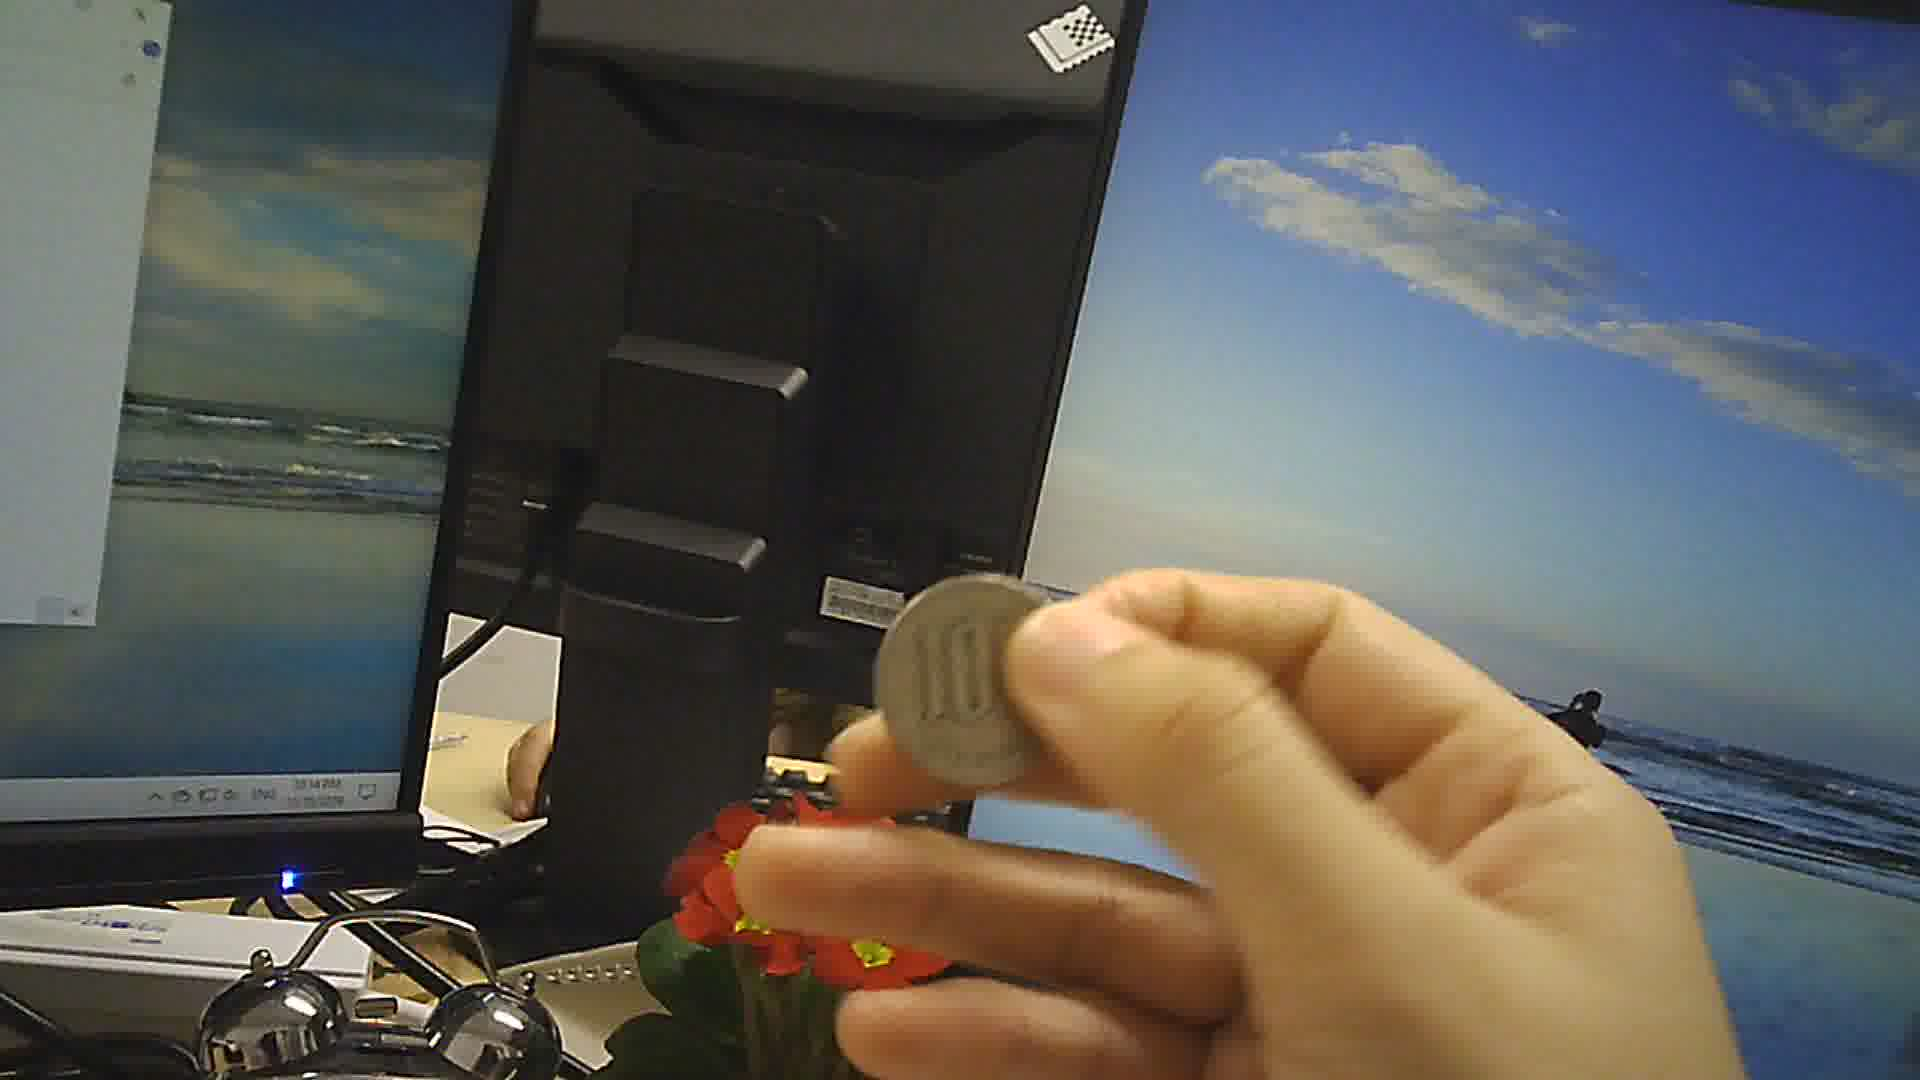100 Yen: (878, 575, 1068, 785)
